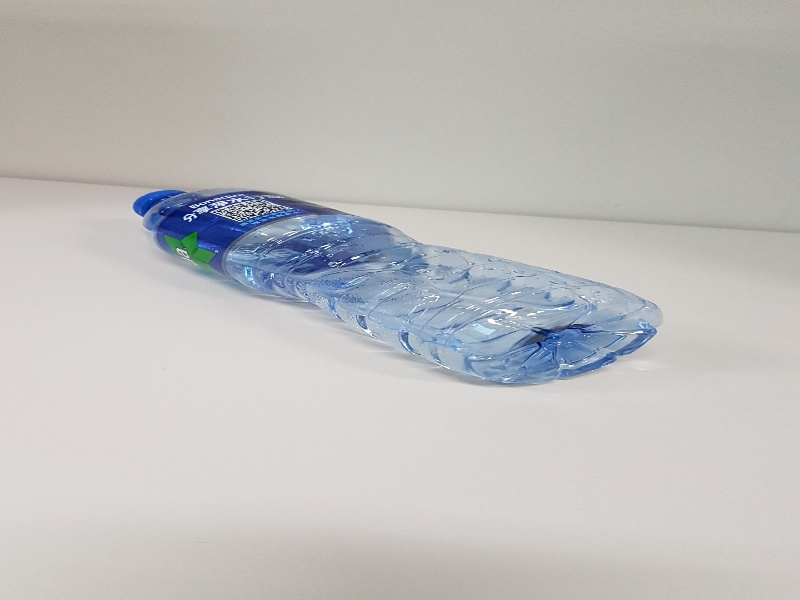Bottle: (132, 188, 664, 389)
